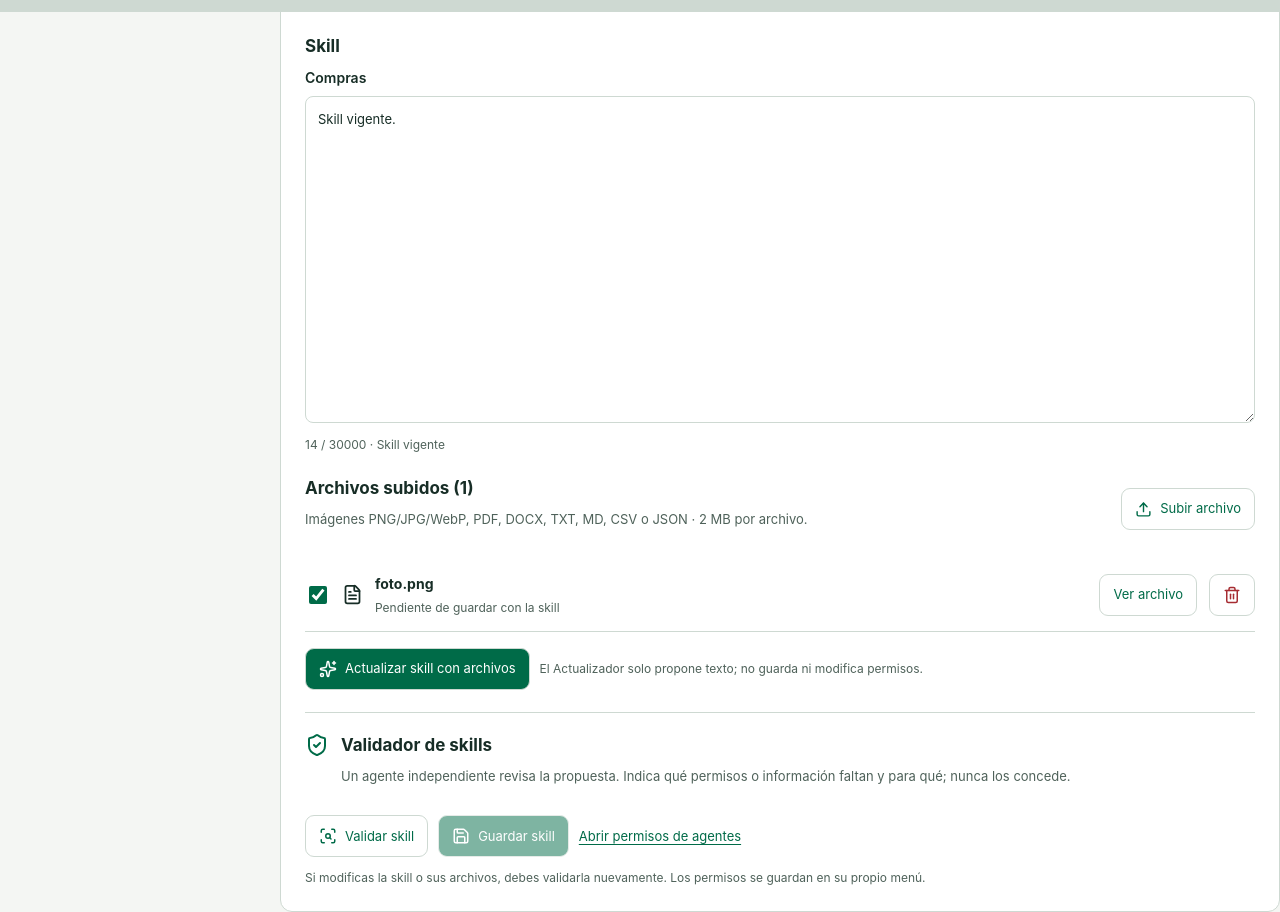
Test: uses selected files to propose a skill without saving or modifying permissions
The width and height of the screenshot is (1280, 912).
(page scrolled)
Expected: the text "foto.png" is shown, [375, 574, 434, 592]
Click the button "Actualizar skill con archivos".
click(417, 668)  # box [305, 648, 530, 690]
(page scrolled)
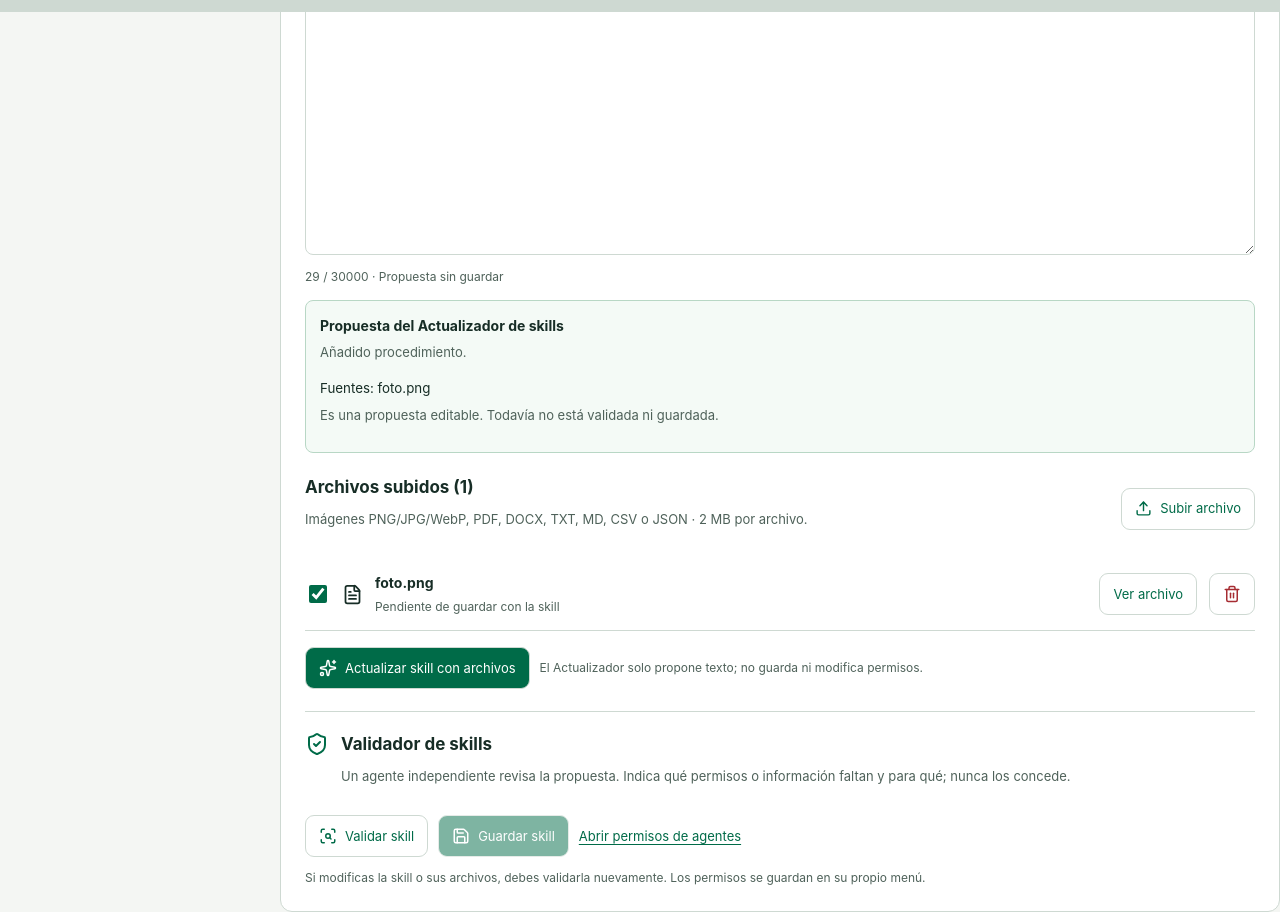
Expected: the button "Guardar skill" is disabled, [438, 815, 569, 857]
Now the text "Añadido procedimiento." is shown, box [320, 344, 466, 360]
Now the text box named "Skill Compras" holds "Skill propuesta desde imagen.", box [305, 12, 1255, 254]
